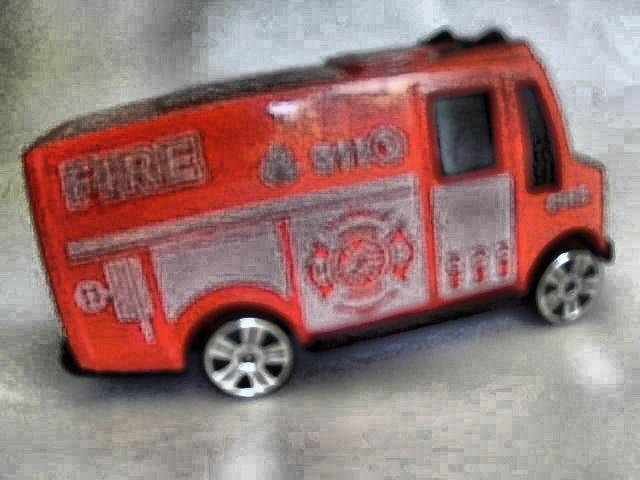fire_truck: (21, 27, 608, 397)
